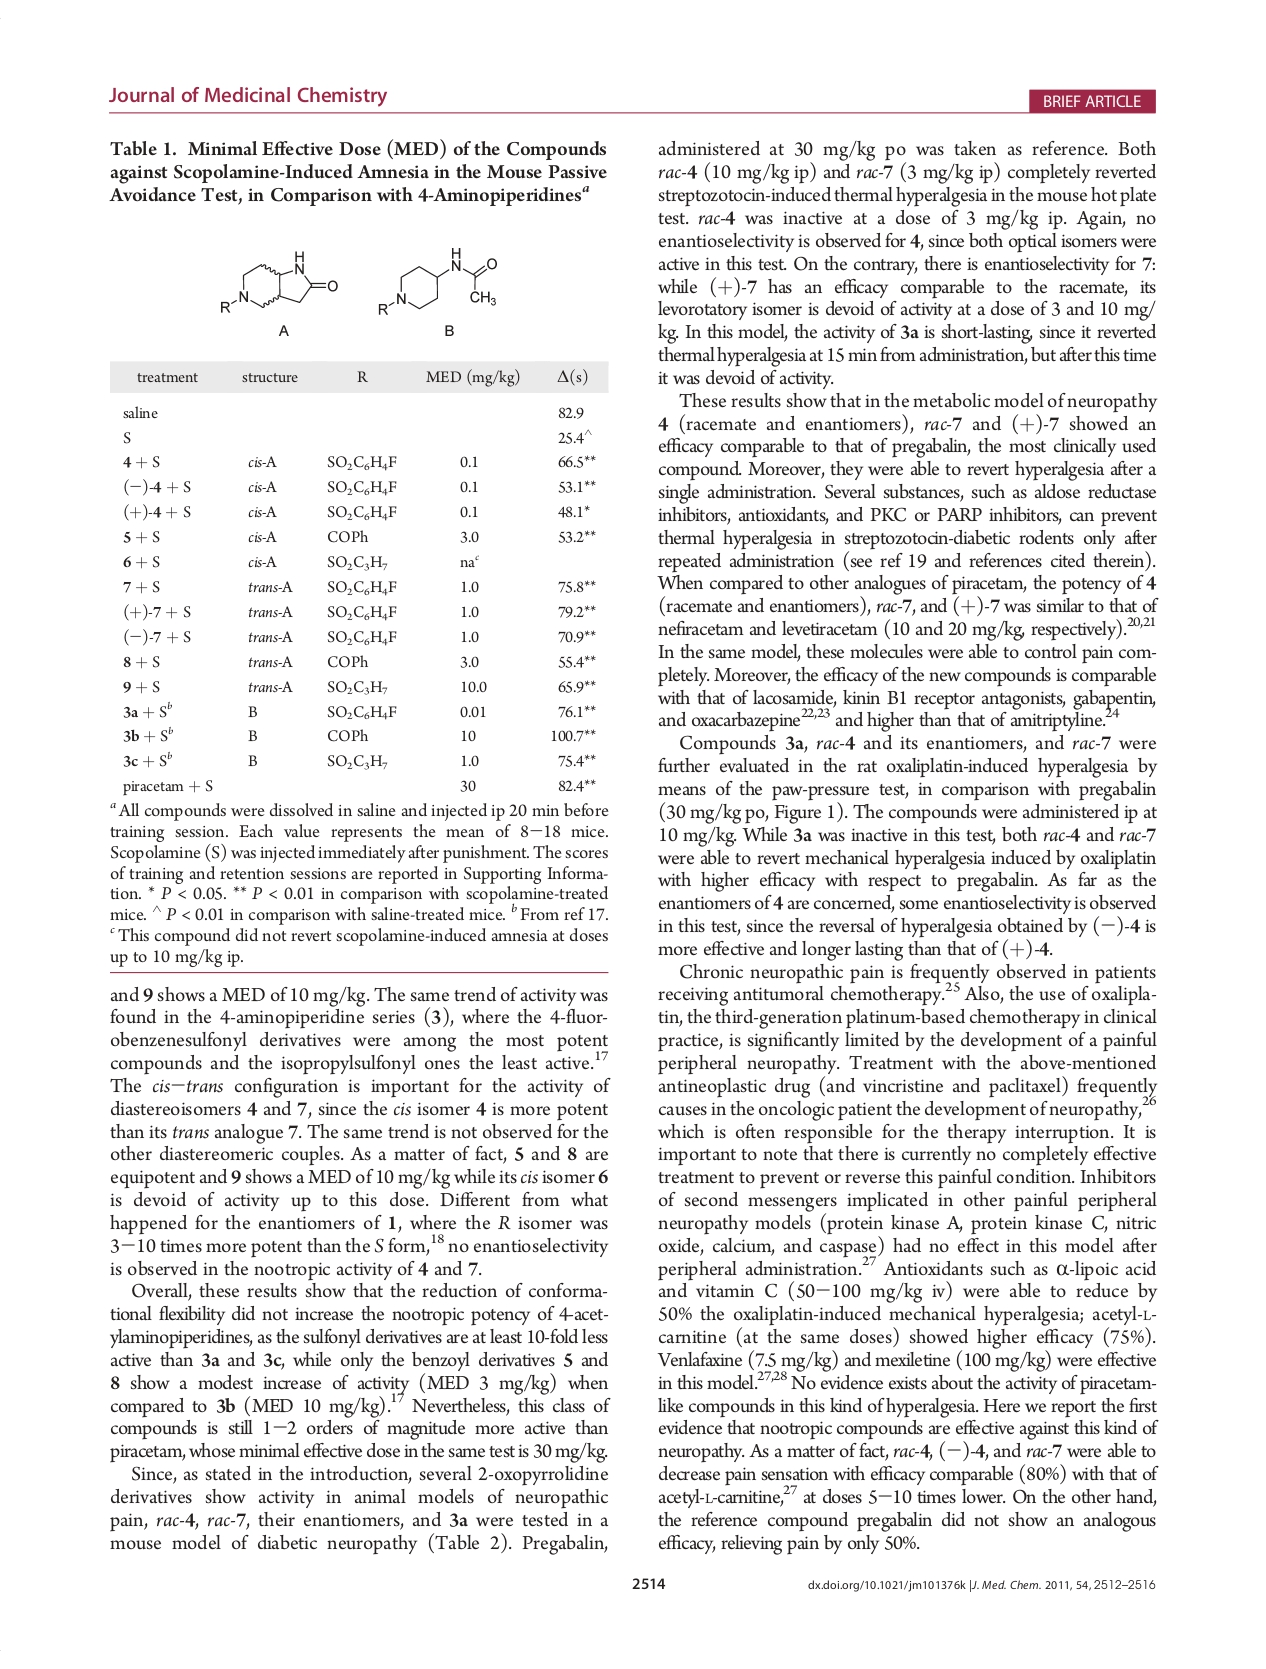exist_molecular: (371, 242, 508, 317), (215, 249, 342, 315)
